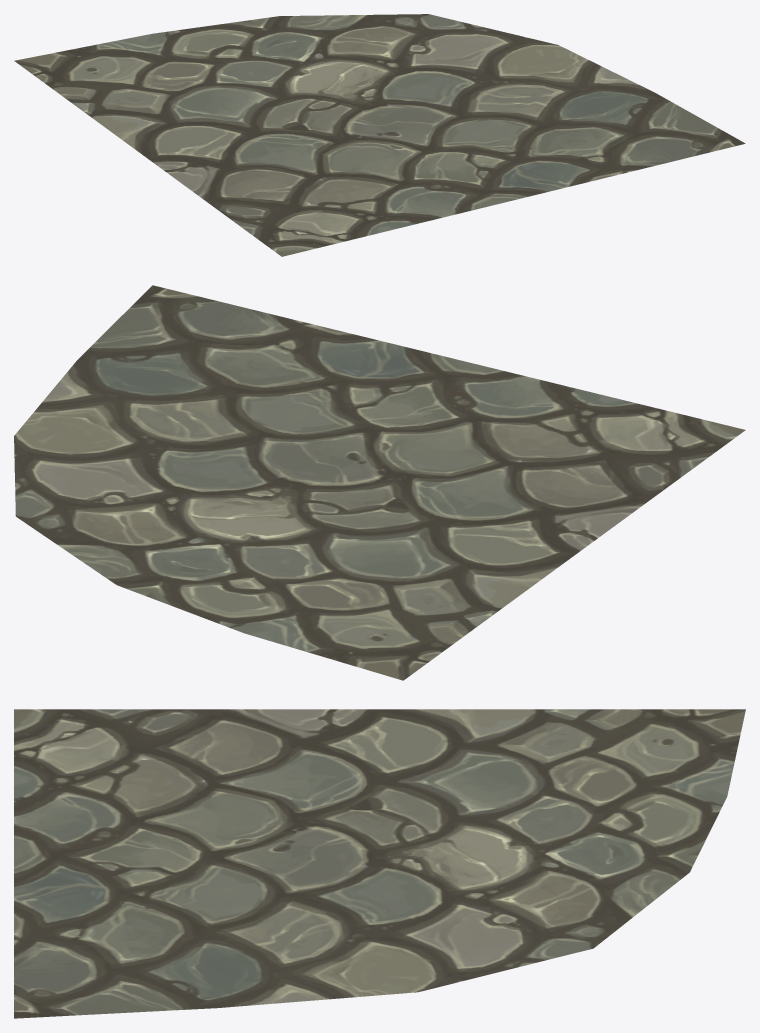
Rendered from floor_convex1.fbx.
3 renders of one model, top to bottom at view 1: azimuth 30°, elevation 25°; view 2: azimuth 150°, elevation 25°; view 3: azimuth 270°, elevation 25°, orthographic. The views are drawn at different scales.
Visible parts, largest first — view 1: convex2; view 2: convex2; view 3: convex2.
Boxes of the visible parts, left/top/right/bottom form: convex2: left=14, top=14, right=745, bottom=256; convex2: left=14, top=285, right=745, bottom=680; convex2: left=14, top=709, right=745, bottom=1018.
Size of the model in its own units: 2 by 4.44e-16 by 2.
